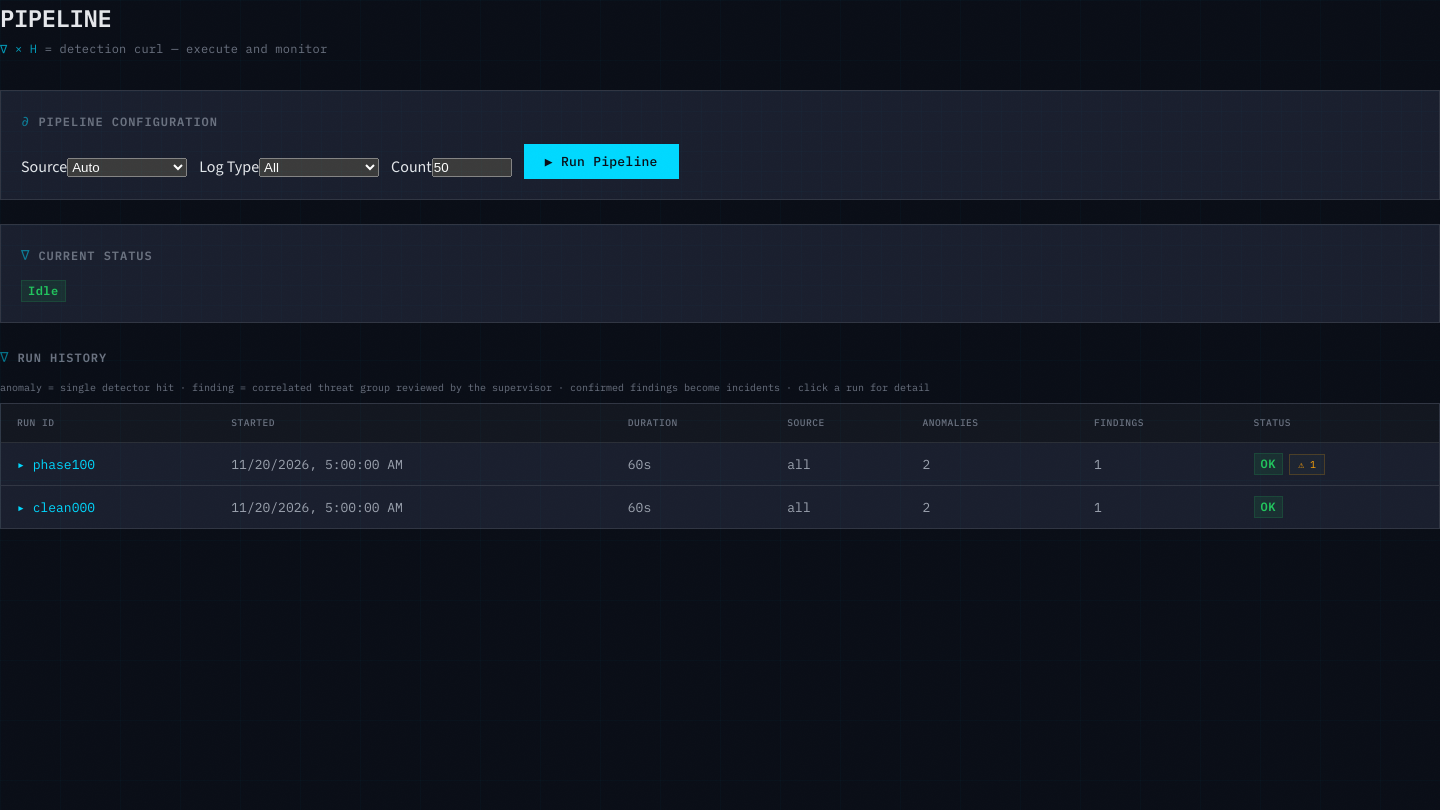
Test case: Pipeline page — Phase 1 run detail (A3/A4/N7) › shows DEGRADATIONS: NONE for a clean run
Click the cell "▸ clean000": (64, 507) [1,486,215,528]
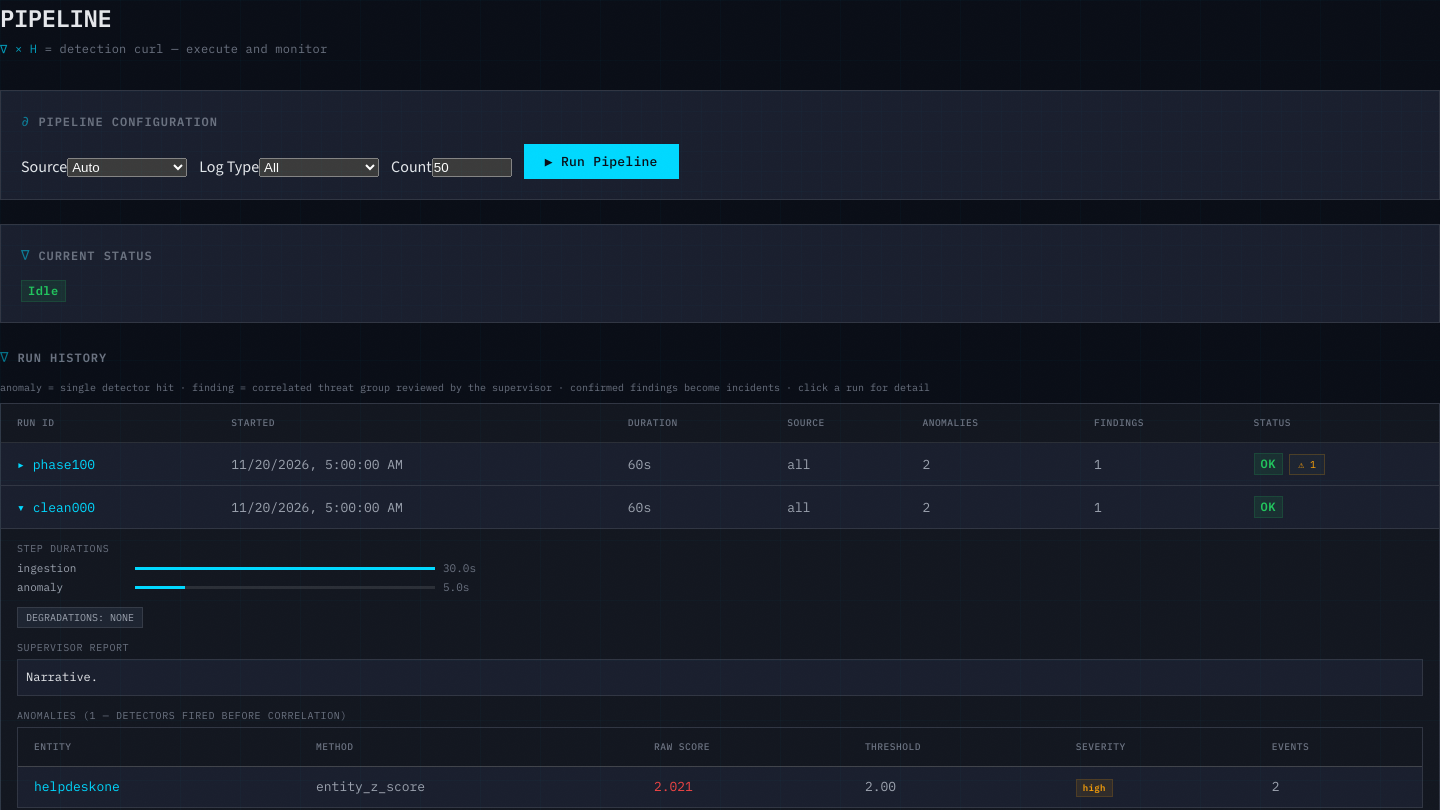
Now the text "DEGRADATIONS: NONE" is shown, box [17,607,143,628]
